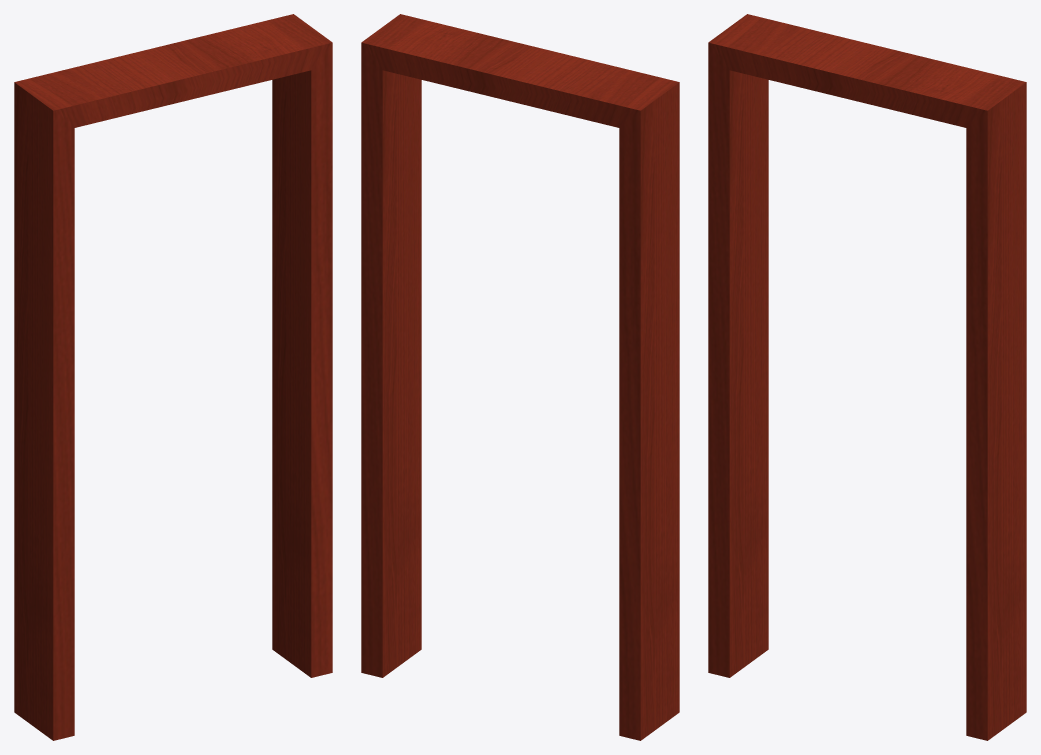
File: C1_ECP_MenKuang.FBX
3 views of the same model, side by side, from view 1: azimuth 30°, elevation 25°; view 2: azimuth 150°, elevation 25°; view 3: azimuth 330°, elevation 25° (orthographic).
Visible parts, largest first — view 1: C1_ECP_MenKuang001; view 2: C1_ECP_MenKuang001; view 3: C1_ECP_MenKuang001.
Part boxes in pixels (left/top/right/bottom): C1_ECP_MenKuang001: left=14, top=14, right=332, bottom=740; C1_ECP_MenKuang001: left=361, top=14, right=679, bottom=740; C1_ECP_MenKuang001: left=708, top=14, right=1026, bottom=740.
Bounding box in the file's own units: 104 × 25.2 × 224.
